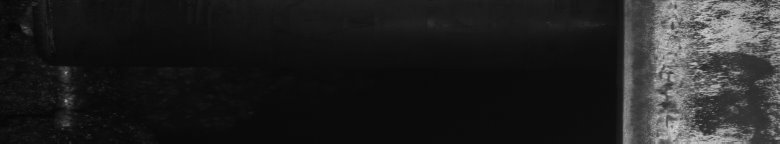kb: (651, 4, 776, 136)
